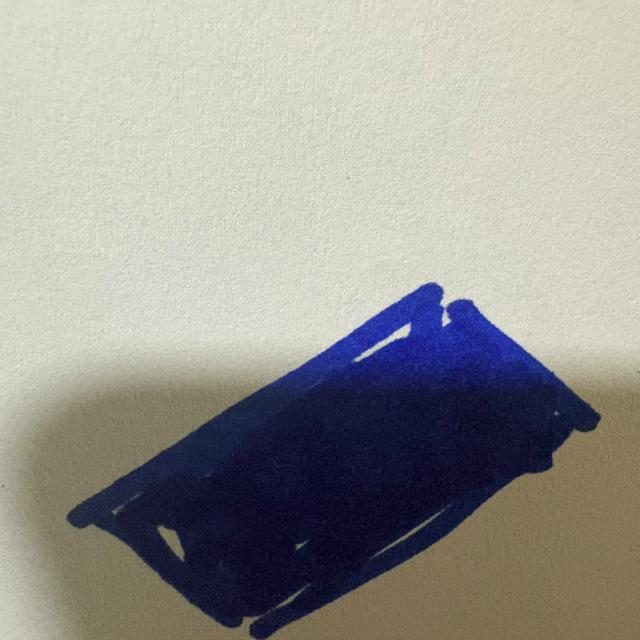Rectangle: (67, 283, 600, 640)
